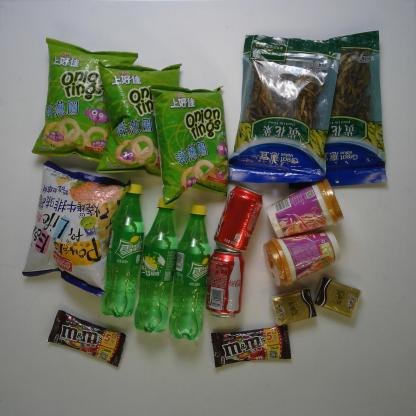Chocolate: (48, 309, 128, 368), (210, 324, 292, 371)
Dried Food: (228, 34, 344, 184), (308, 30, 388, 186)
Drink: (134, 198, 178, 335), (103, 181, 146, 317), (170, 202, 211, 340), (214, 184, 262, 253), (206, 249, 244, 319)
Instant Drink: (266, 178, 345, 239), (264, 228, 341, 288)
Puffed Food: (21, 160, 130, 300), (31, 35, 139, 163), (148, 79, 230, 207), (96, 59, 184, 175)
Tissue: (314, 274, 360, 318), (270, 288, 315, 326)
